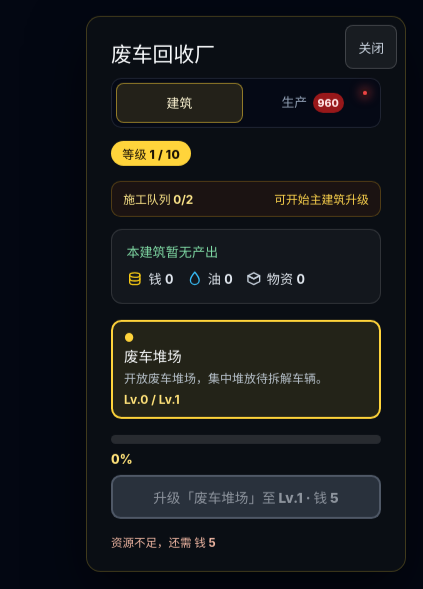
Scenario: BuildingPanel › recycling-yard production tabs › replaces the next-batch countdown with capped guidance at eight hours
Click the button "生产 960".
click(313, 102)  # box [249,82,376,122]
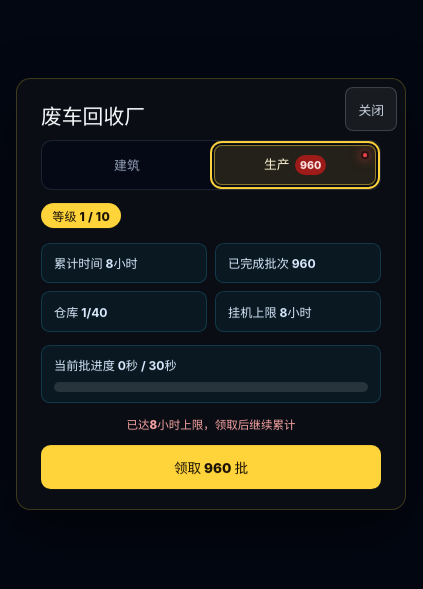
Now the text "已达8小时上限，领取后继续累计" is shown, box [127,418,296,432]
